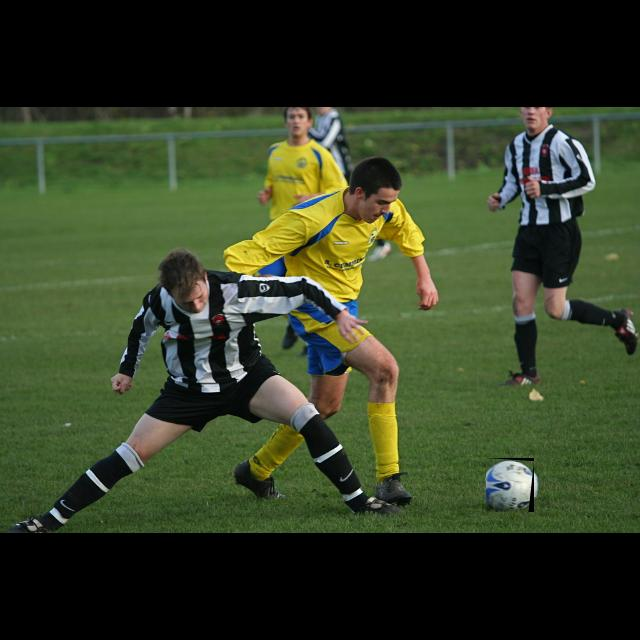Football: (486, 458, 534, 512)
